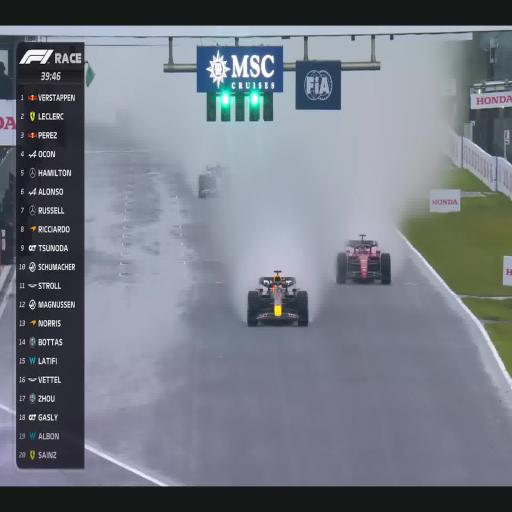f1_car: (247, 270, 308, 326), (336, 234, 390, 284), (198, 163, 225, 198)
